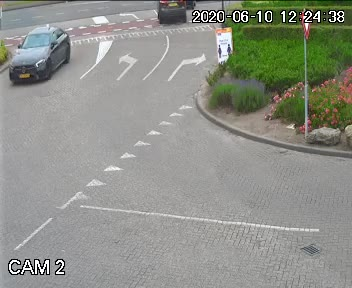car: (9, 22, 76, 87), (150, 2, 192, 26)
